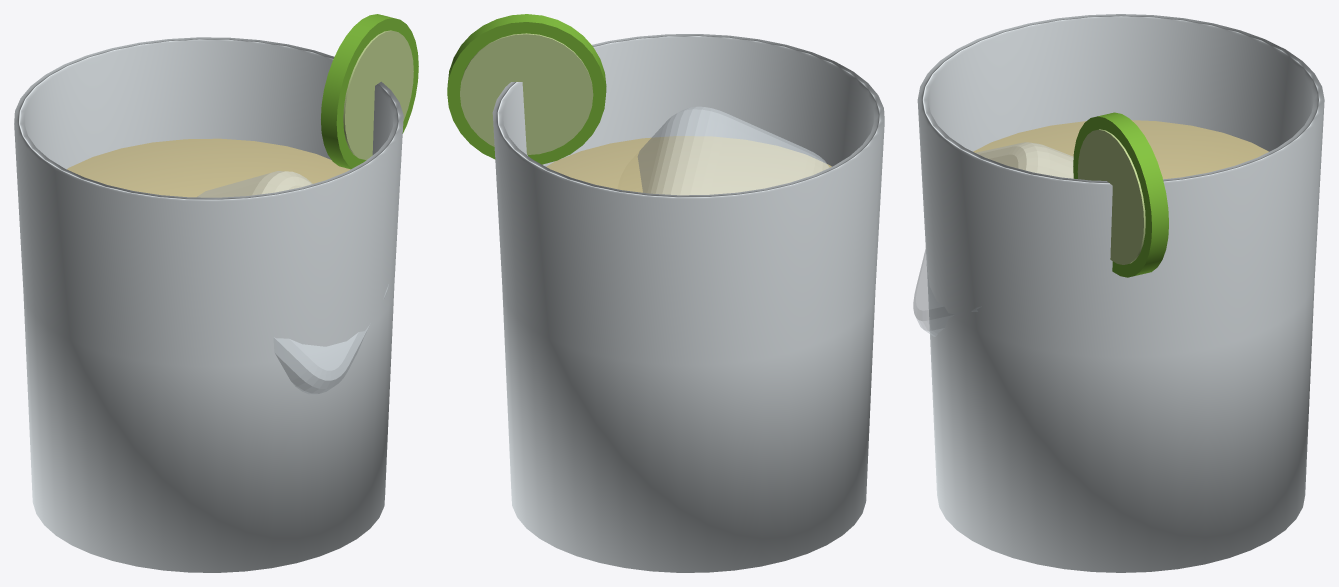
Rendered from cocktail-tommy-s-mezcal.glb.
3 views of the same model, side by side, from view 1: azimuth 30°, elevation 25°; view 2: azimuth 150°, elevation 25°; view 3: azimuth 270°, elevation 25° (orthographic). The views are drawn at different scales.
Size of the model in its own units: 0.0979 by 0.104 by 0.0849.
